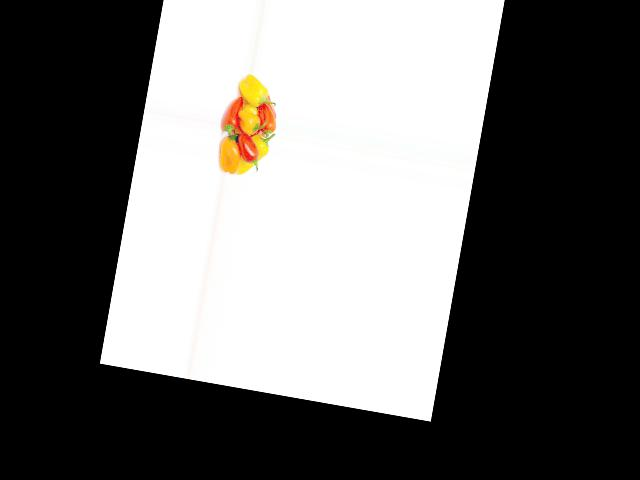bell_pepper: (236, 131, 273, 179)
